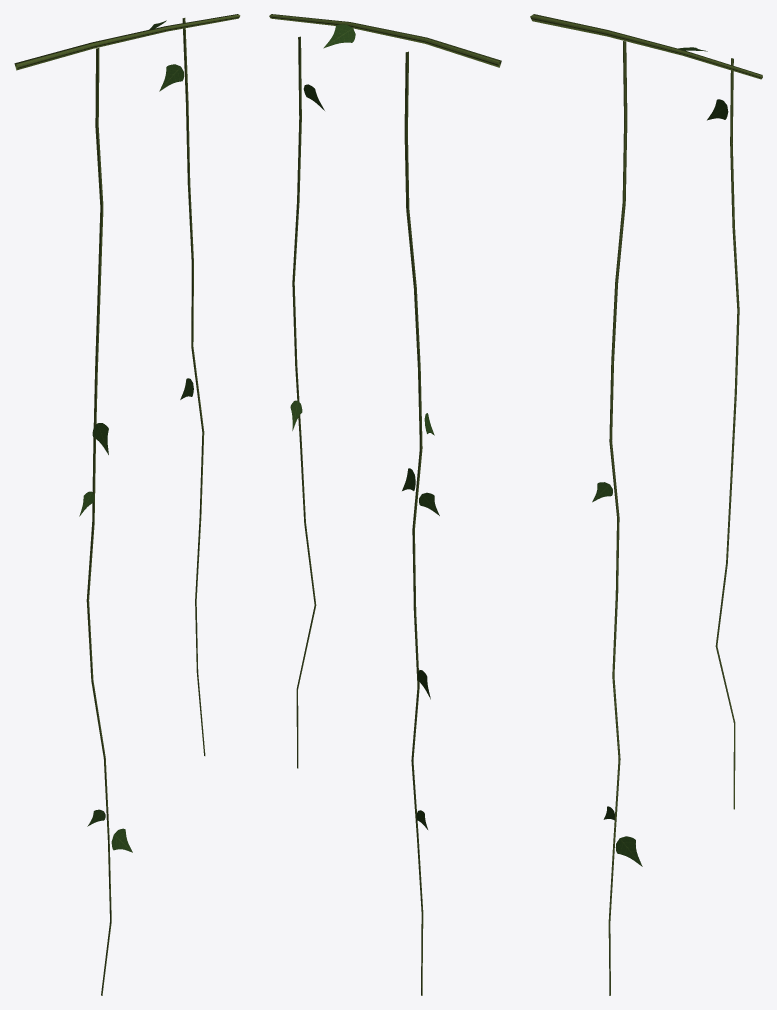
File: liana_hang_ivy_06_lod2.gltf
The picture shows the model from 3 angles, left to right: view 1: azimuth 30°, elevation 25°; view 2: azimuth 150°, elevation 25°; view 3: azimuth 330°, elevation 25°; orthographic projection.
Visible parts, largest first — view 1: liana_hang_ivy_06; view 2: liana_hang_ivy_06; view 3: liana_hang_ivy_06.
Boxes of the visible parts, box(x1,y1,x2,y2) form: liana_hang_ivy_06: box(14, 14, 240, 995); liana_hang_ivy_06: box(269, 14, 501, 995); liana_hang_ivy_06: box(530, 14, 762, 995).
Size of the model in its own units: 1.21 by 4.86 by 0.4146.
Materials: 2 (2 with a texture image).
